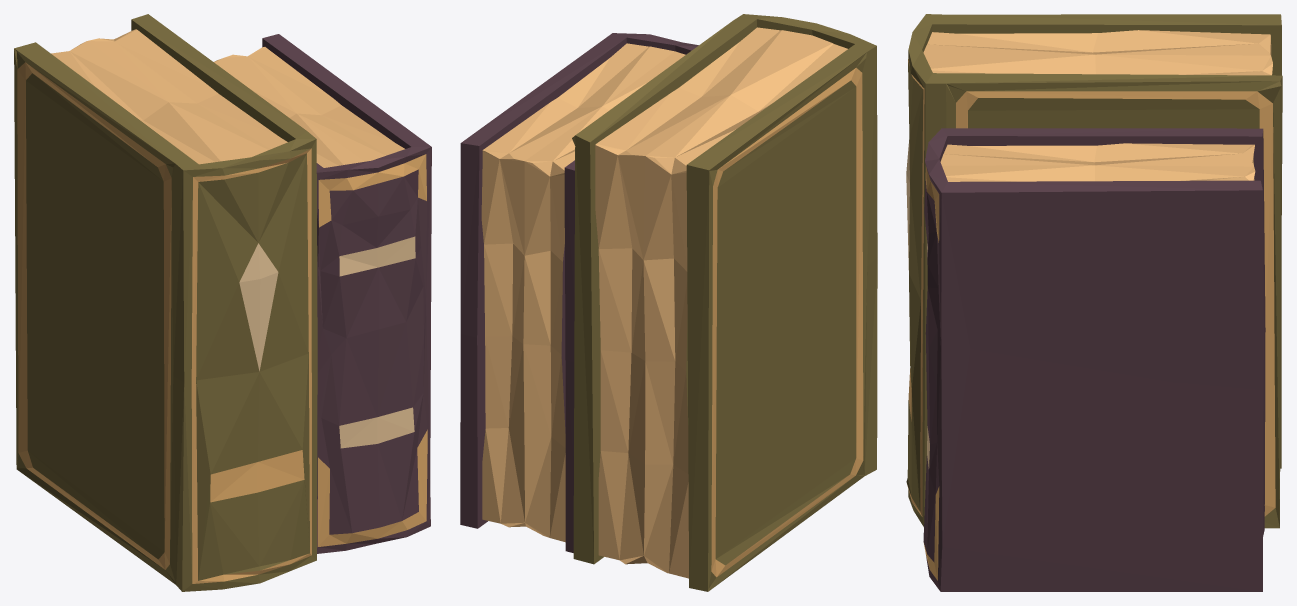
The model's file is Books_004.fbx.
3 renders of one model, left to right at view 1: azimuth 30°, elevation 25°; view 2: azimuth 150°, elevation 25°; view 3: azimuth 270°, elevation 25°, orthographic. The views are drawn at different scales.
Parts seen in each view (by area): view 1: Books_004; view 2: Books_004; view 3: Books_004.
Part boxes in pixels (left/top/right/bottom): Books_004: left=14, top=14, right=431, bottom=591; Books_004: left=460, top=14, right=877, bottom=591; Books_004: left=906, top=14, right=1282, bottom=591.
Size of the model in its own units: 0.2002 by 0.3158 by 0.2403.
